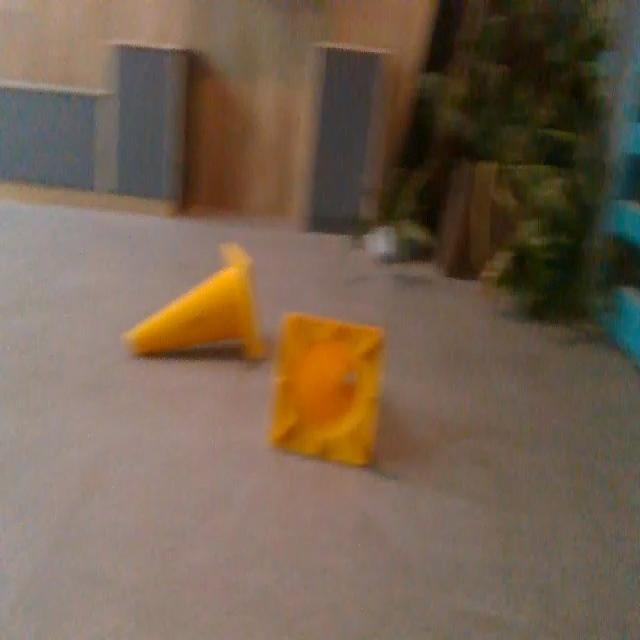cone: (272, 310, 389, 468), (121, 239, 267, 358)
